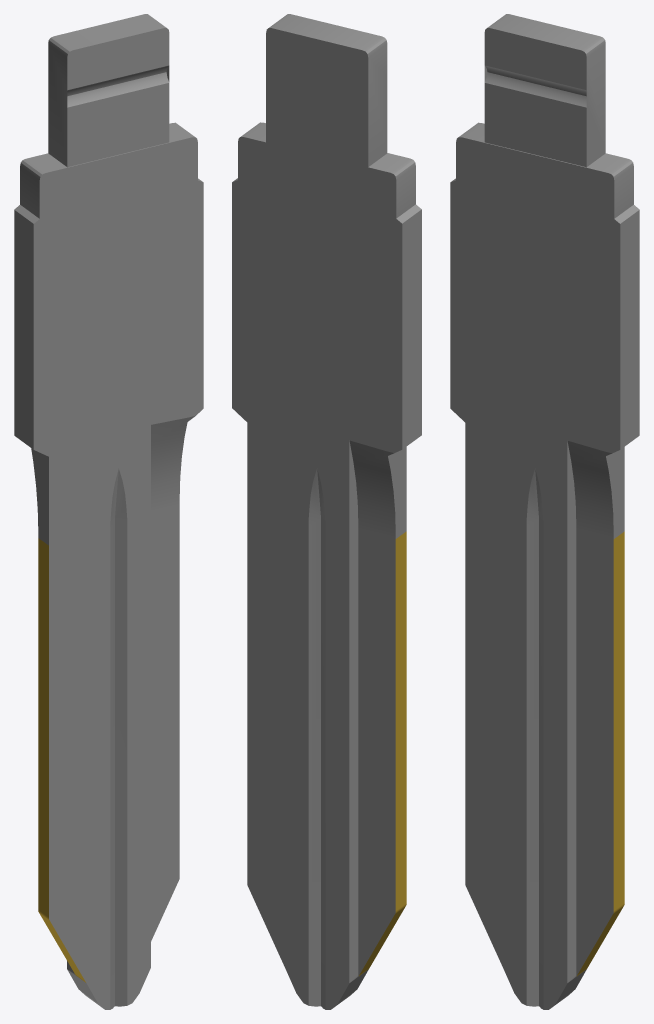
3 renders of one model, left to right at view 1: azimuth 30°, elevation 25°; view 2: azimuth 150°, elevation 25°; view 3: azimuth 330°, elevation 25°, orthographic.
Parts seen in each view (by area): view 1: Box001; view 2: Box001; view 3: Box001.
Part boxes in pixels (x1,y1,x2,y2): Box001: (14, 14, 203, 1009); Box001: (232, 14, 421, 1009); Box001: (450, 14, 639, 1009).
Bounding box in the file's own units: 10 × 54.5 × 2.
